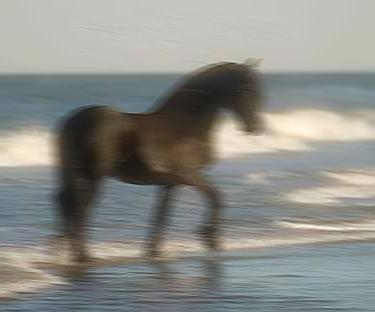horse: (48, 56, 268, 262)
